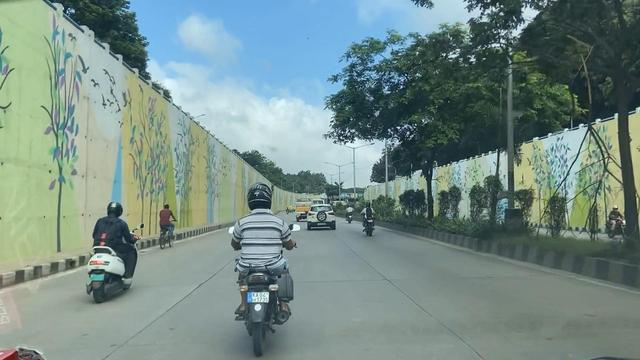LMV: (237, 183, 294, 351), (89, 201, 138, 293), (307, 205, 336, 232), (364, 201, 376, 236)
